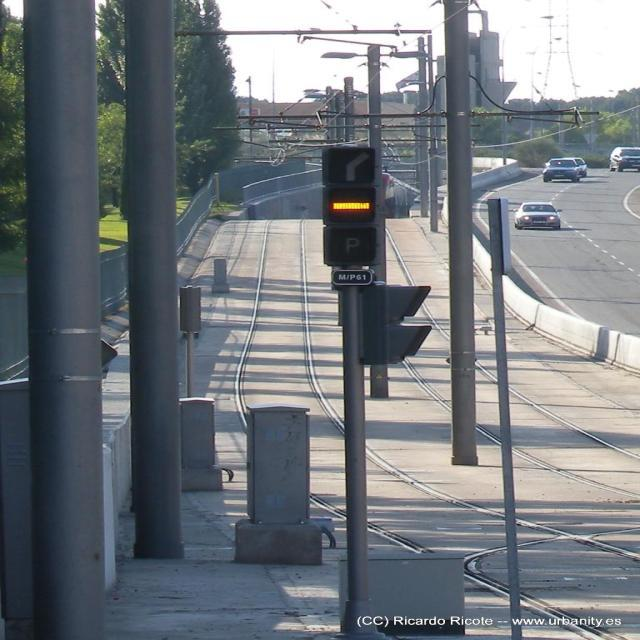off traffic light: (371, 284, 432, 365)
